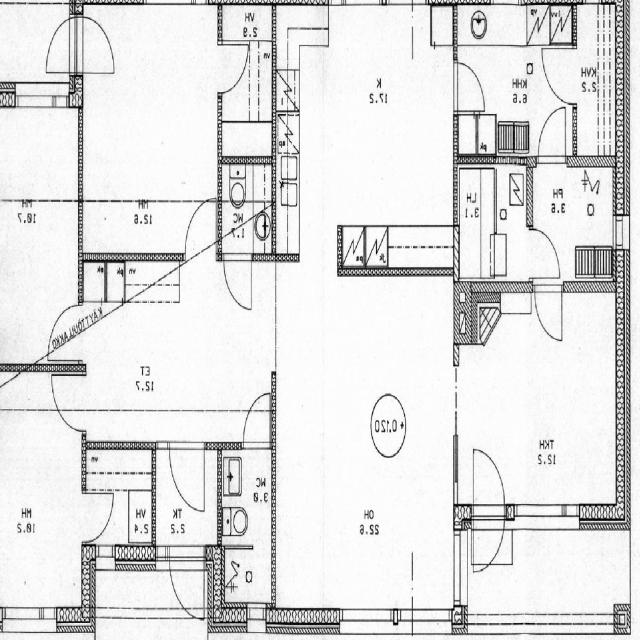door: (170, 545, 204, 632), (39, 17, 84, 71), (474, 449, 504, 529), (170, 441, 204, 511), (70, 17, 114, 71), (474, 505, 504, 584), (51, 374, 87, 430), (48, 304, 84, 360), (542, 48, 577, 104), (186, 197, 216, 260), (538, 105, 566, 163), (224, 252, 252, 309), (535, 280, 562, 339), (82, 492, 114, 541), (454, 61, 486, 110), (218, 44, 249, 92), (530, 228, 560, 277), (243, 394, 270, 448)
